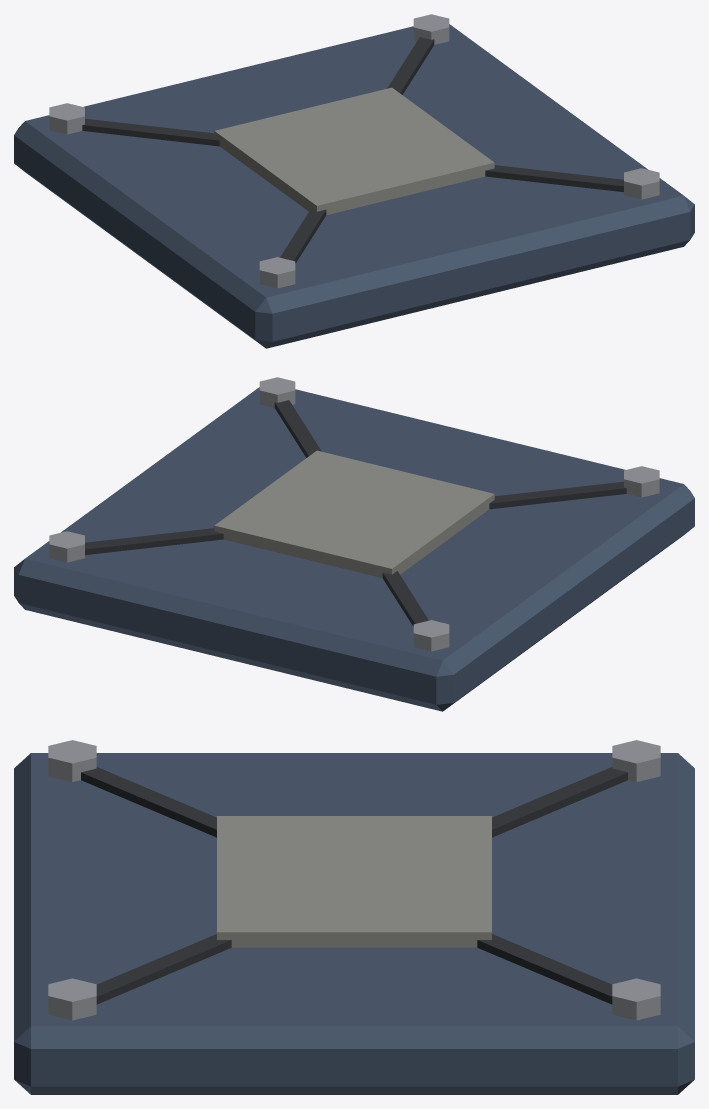
File: pb8_hatch_8.obj
3 views of the same model, one above another, from view 1: azimuth 30°, elevation 25°; view 2: azimuth 150°, elevation 25°; view 3: azimuth 270°, elevation 25° (orthographic). The views are drawn at different scales.
Visible parts, largest first — view 1: pb8_hatch_8; view 2: pb8_hatch_8; view 3: pb8_hatch_8.
Part boxes in pixels (box(x1,y1,x2,y2)): pb8_hatch_8: box(14, 14, 694, 348); pb8_hatch_8: box(14, 377, 694, 711); pb8_hatch_8: box(14, 740, 694, 1094).
Bounding box in the file's own units: 0.198 × 0.028 × 0.198.
